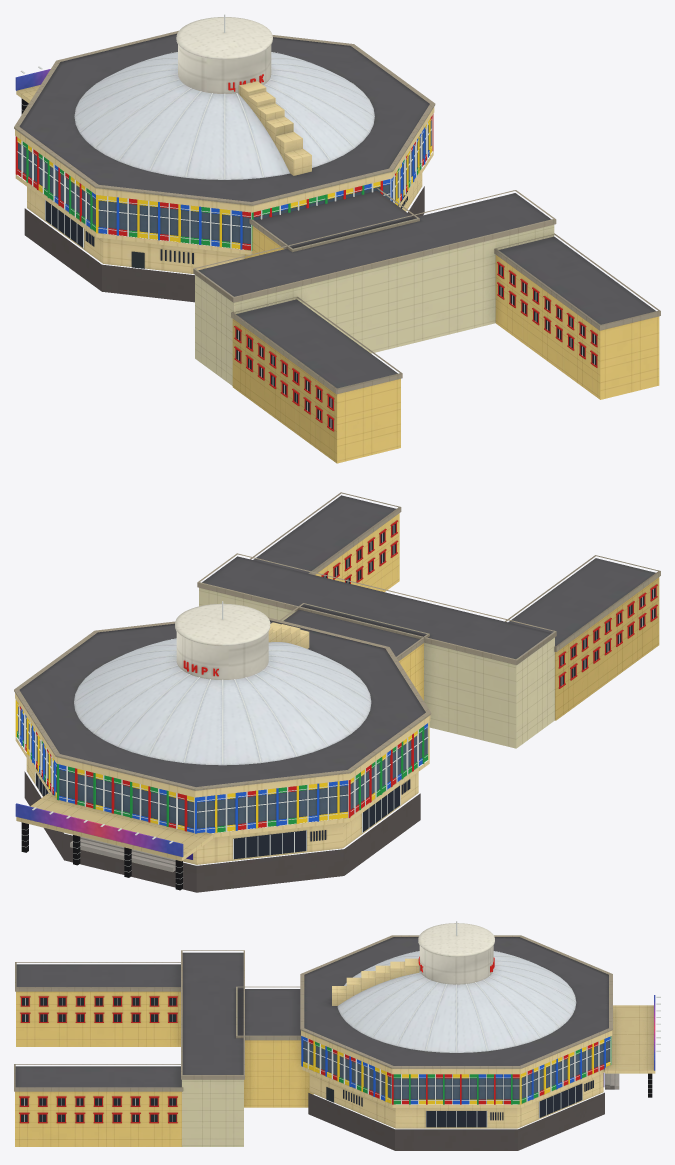
The model's file is circus.glb.
The picture shows the model from 3 angles, top to bottom: view 1: azimuth 30°, elevation 25°; view 2: azimuth 150°, elevation 25°; view 3: azimuth 270°, elevation 25°; orthographic projection. The views are drawn at different scales.
Parts seen in each view (by area): view 1: circus; view 2: circus; view 3: circus.
Part boxes in pixels (bbox=[...]): circus: bbox=[14, 14, 660, 463]; circus: bbox=[14, 492, 660, 892]; circus: bbox=[14, 921, 660, 1150].
Size of what is drawn, in the model's own units: 59 by 34.73 by 122.
Materials: 4 (4 with a texture image).
